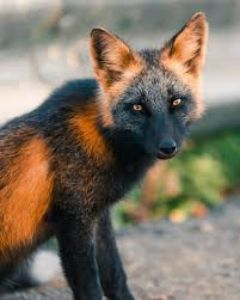fox: (27, 15, 210, 295)
